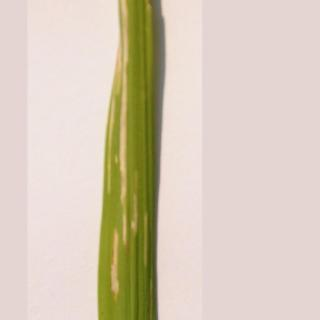Hawar-Daun: (102, 1, 152, 319)
